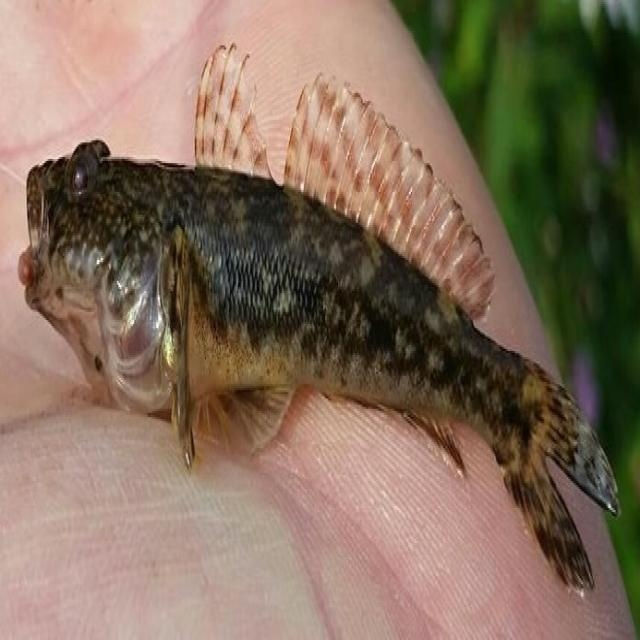Goby: (20, 53, 621, 614)
